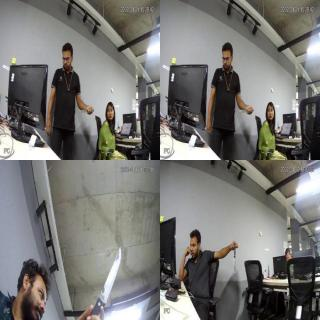knife: (89, 247, 119, 305), (232, 245, 238, 275), (77, 106, 89, 118), (235, 105, 248, 113)
